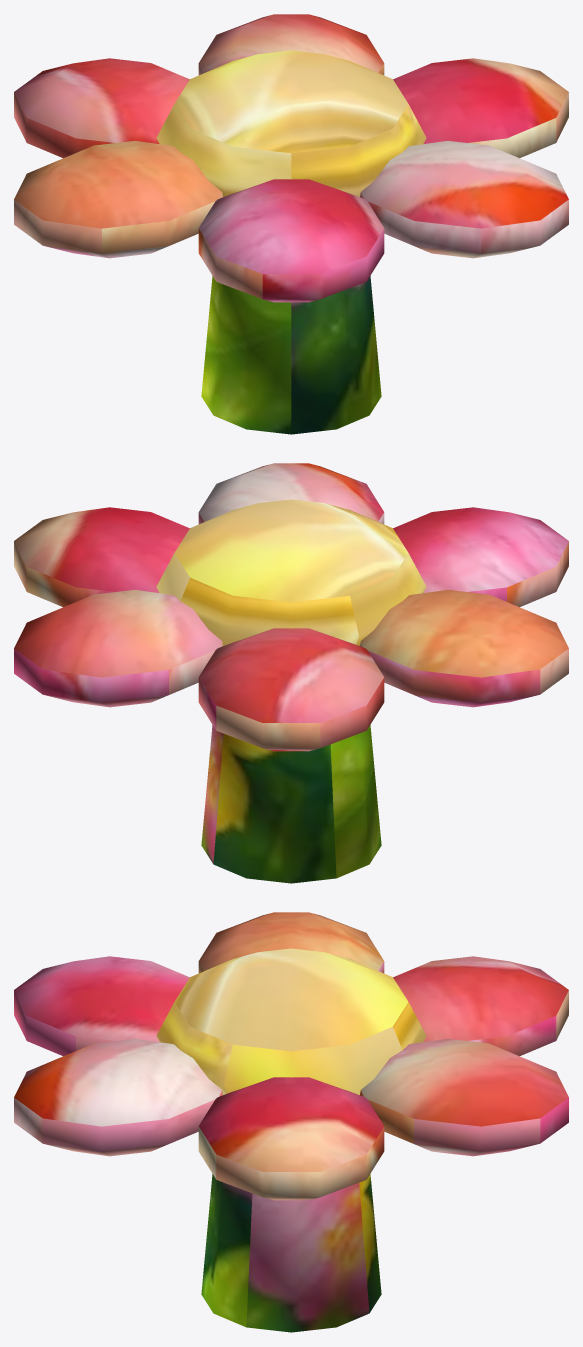
Rendered from rebote_jardin.glb.
3 views of the same model, one above another, from view 1: azimuth 30°, elevation 25°; view 2: azimuth 150°, elevation 25°; view 3: azimuth 270°, elevation 25° (orthographic).
Parts seen in each view (by area): view 1: rebote_jardin; view 2: rebote_jardin; view 3: rebote_jardin.
Boxes of the visible parts, left/top/right/bottom form: rebote_jardin: left=14, top=14, right=568, bottom=434; rebote_jardin: left=14, top=463, right=568, bottom=883; rebote_jardin: left=14, top=912, right=568, bottom=1332.
Bounding box in the file's own units: 1 × 0.593 × 0.9132.
Materials: 3 (3 with a texture image).
